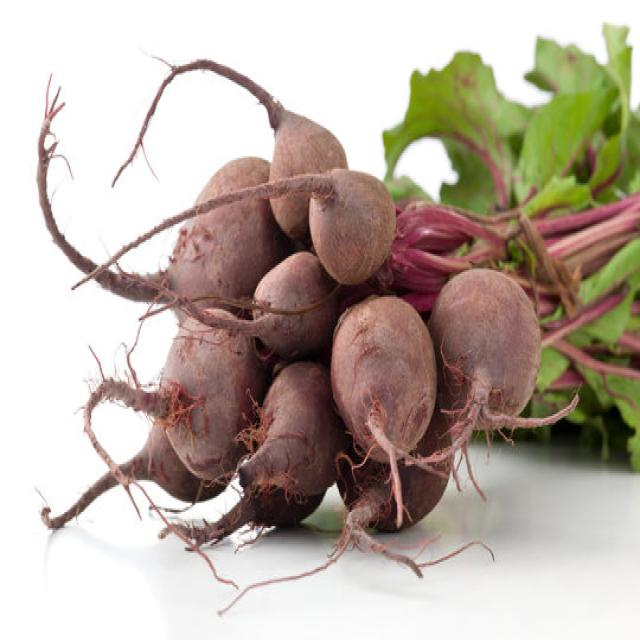Beetroot: (33, 23, 638, 613), (110, 53, 348, 242), (426, 265, 580, 499), (329, 293, 438, 530), (166, 154, 287, 322), (156, 309, 266, 482), (382, 198, 505, 310)
Coriander Leaves: (382, 20, 638, 471)
Onion: (385, 188, 639, 310)
Radish: (70, 162, 397, 318), (152, 359, 348, 549), (193, 160, 396, 286)
